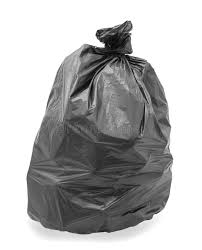Trash: (21, 15, 177, 238)
